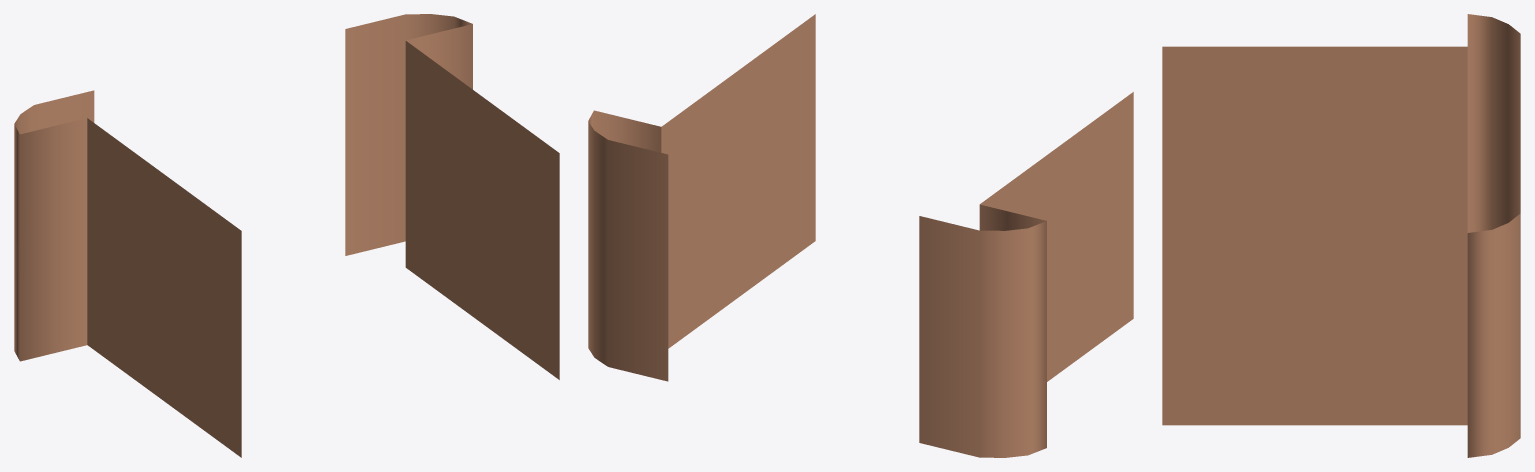
Rendered from MAP_WALLS.fbx.
3 renders of one model, left to right at view 1: azimuth 30°, elevation 25°; view 2: azimuth 150°, elevation 25°; view 3: azimuth 270°, elevation 25°, orthographic.
Visible parts, largest first — view 1: Cylinder.009; view 2: Cylinder.009; view 3: Cylinder.009.
Part boxes in pixels (<box>): Cylinder.009: <box>14,14,559,457</box>; Cylinder.009: <box>588,14,1133,457</box>; Cylinder.009: <box>1162,14,1520,457</box>.
Size of the model in its own units: 6999 by 3352 by 4839.
